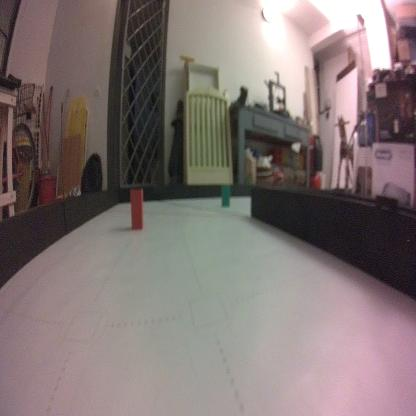green: (221, 182, 230, 207)
red: (126, 185, 146, 233)
